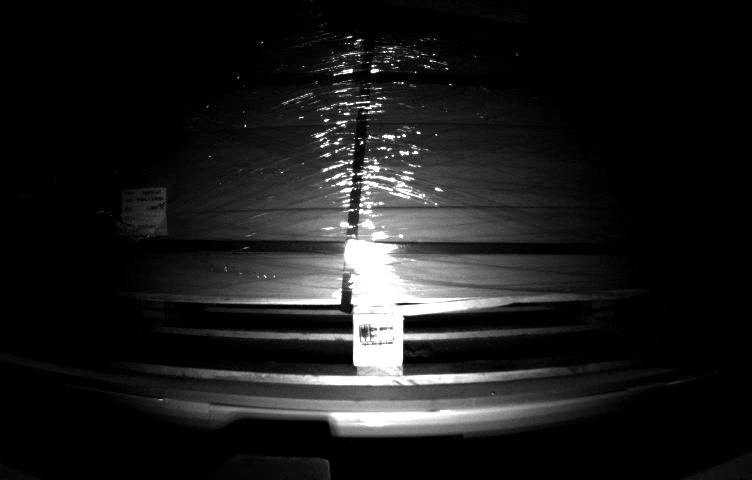True Barcode: (120, 186, 172, 240)
